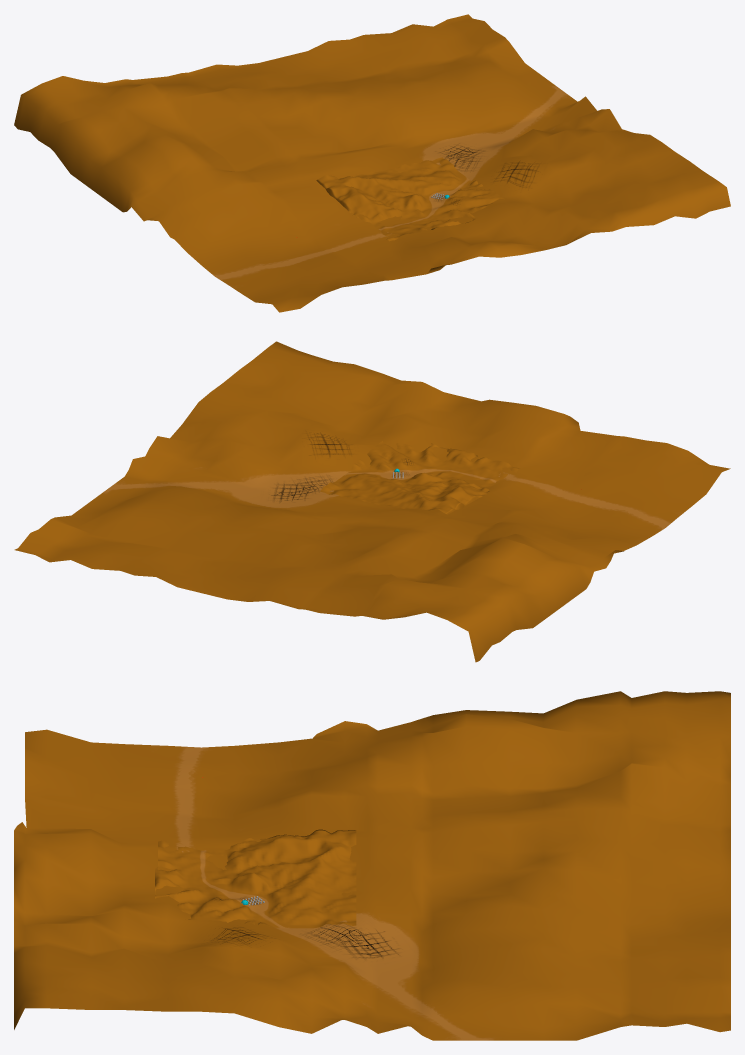
The model's file is LevelTest.glb.
The picture shows the model from 3 angles, top to bottom: view 1: azimuth 30°, elevation 25°; view 2: azimuth 150°, elevation 25°; view 3: azimuth 270°, elevation 25°; orthographic projection. The views are drawn at different scales.
Visible parts, largest first — view 1: pPlane3, pPlane1; view 2: pPlane3, pPlane1; view 3: pPlane3, pPlane1.
Boxes of the visible parts, left/top/right/bottom form: pPlane3: left=14, top=14, right=730, bottom=312; pPlane1: left=316, top=157, right=504, bottom=241; pPlane3: left=14, top=341, right=730, bottom=662; pPlane1: left=320, top=441, right=519, bottom=514; pPlane3: left=14, top=691, right=730, bottom=1040; pPlane1: left=155, top=829, right=356, bottom=928.
Size of the model in its own units: 13.15 by 1.35 by 13.15.
Materials: 4 (1 with a texture image).
